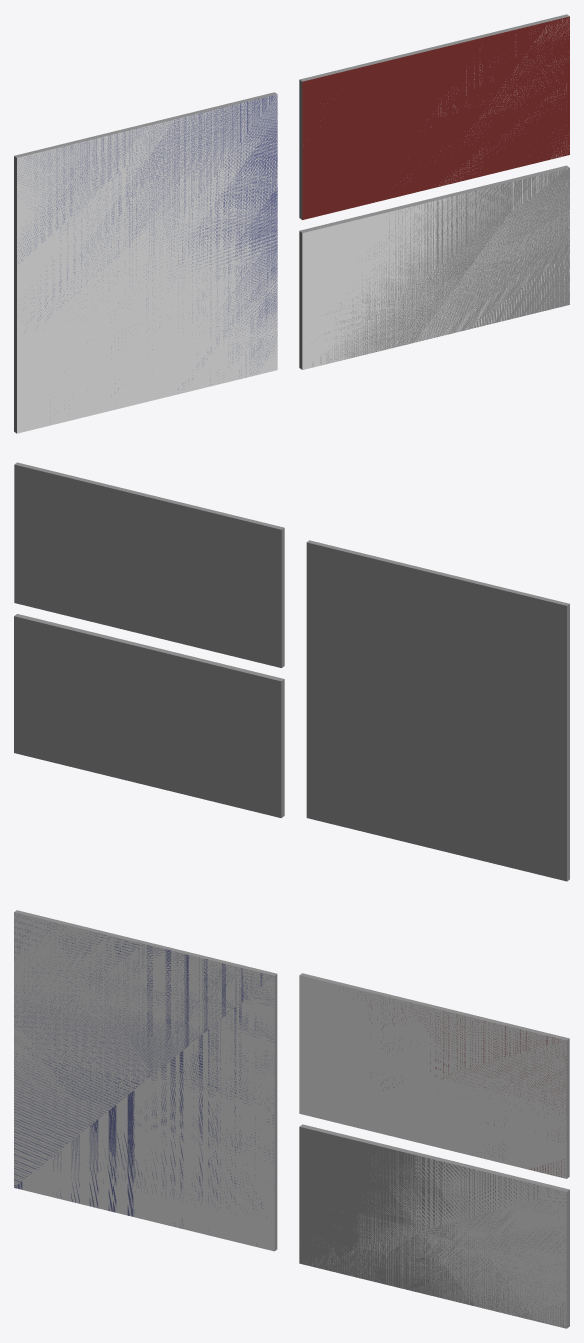
File: s_moviestudio_signwarn_003.dae
3 renders of one model, top to bottom at view 1: azimuth 30°, elevation 25°; view 2: azimuth 150°, elevation 25°; view 3: azimuth 330°, elevation 25°, orthographic.
Parts seen in each view (by area): view 1: s_moviestudio_signwarn_003_L30, s_moviestudio_signwarn_003_L15; view 2: s_moviestudio_signwarn_003_L30, s_moviestudio_signwarn_003_L15; view 3: s_moviestudio_signwarn_003_L30, s_moviestudio_signwarn_003_L15.
Part boxes in pixels (bbox=[...]): s_moviestudio_signwarn_003_L30: bbox=[14, 14, 569, 433]; s_moviestudio_signwarn_003_L15: bbox=[17, 16, 569, 405]; s_moviestudio_signwarn_003_L30: bbox=[14, 462, 569, 881]; s_moviestudio_signwarn_003_L15: bbox=[14, 465, 566, 879]; s_moviestudio_signwarn_003_L30: bbox=[14, 910, 569, 1328]; s_moviestudio_signwarn_003_L15: bbox=[14, 912, 566, 1327].
Size of the model in its own units: 0.5239 by 0.00536 by 0.261.
